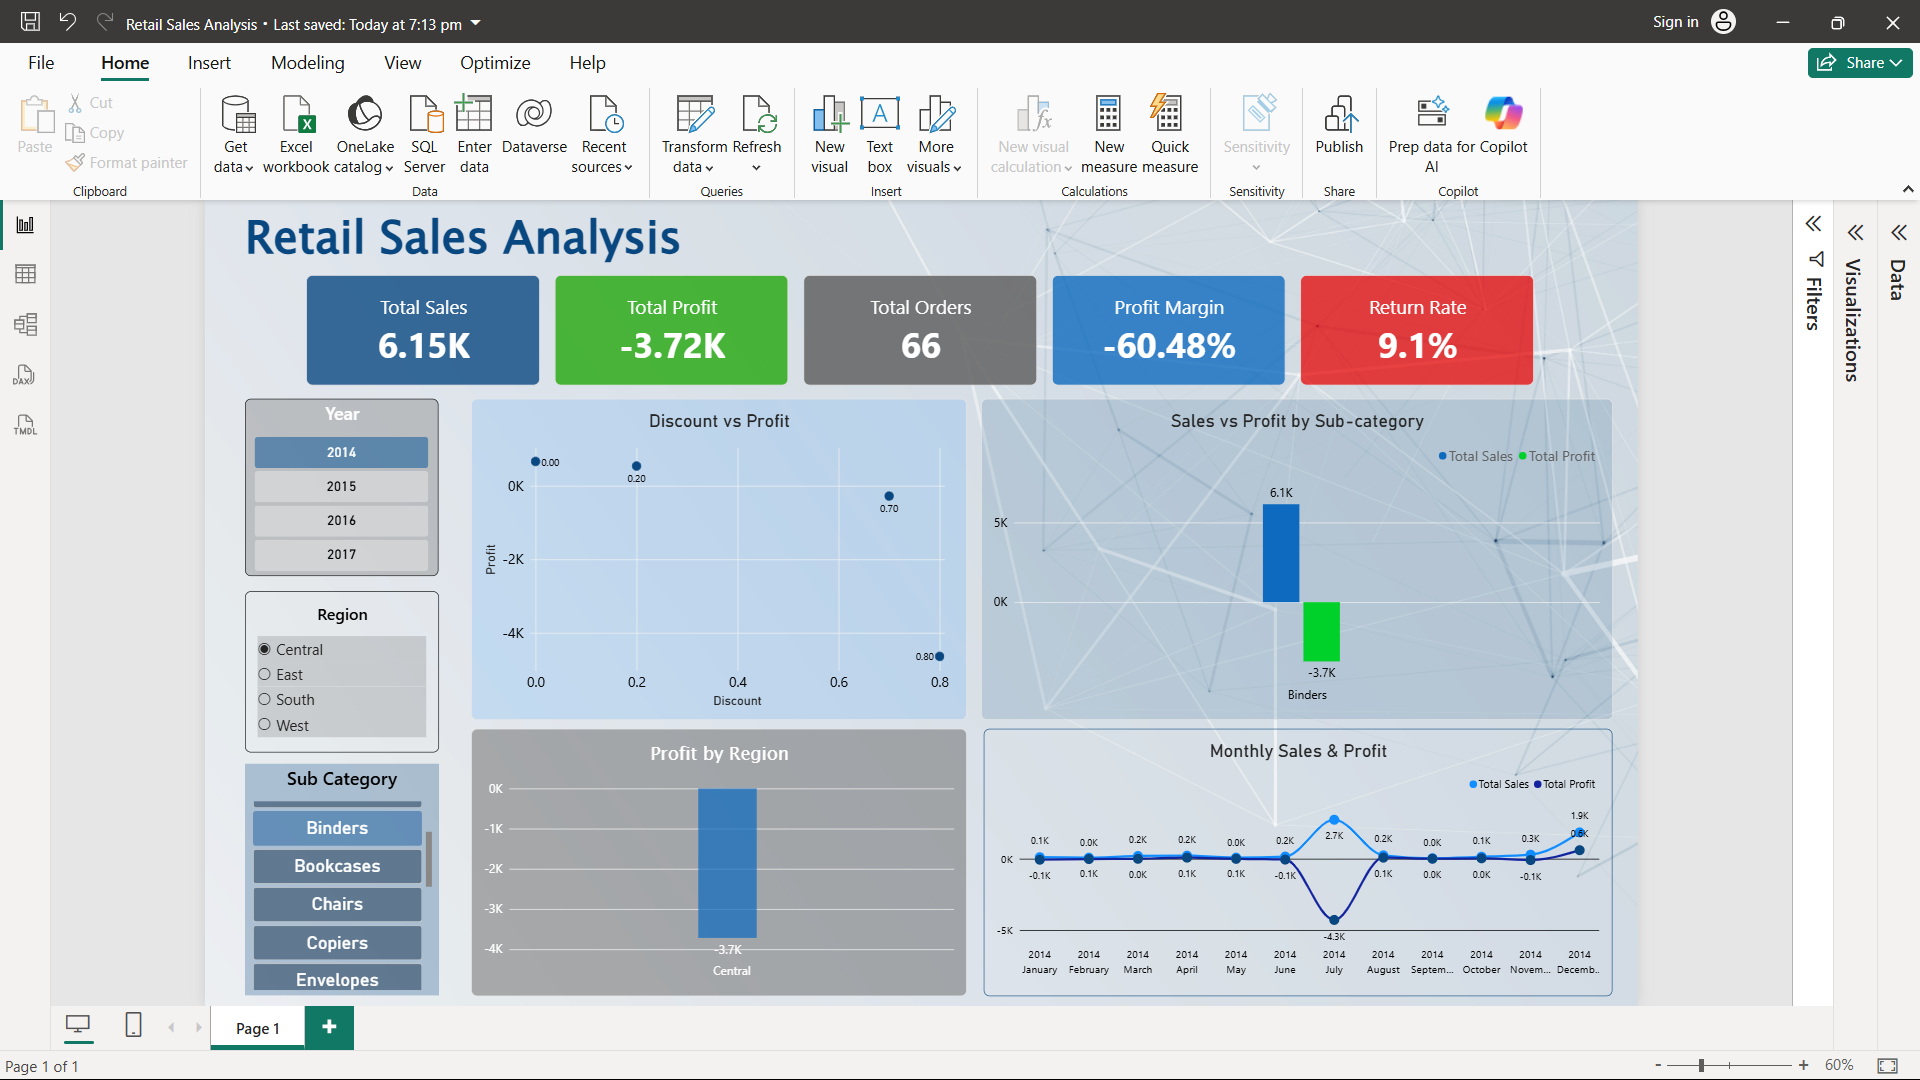

The page's visual inventory and layout, read from the dashboard file:
{"tool":"powerbi","page":{"name":"Page 1","canvas":[1920,1080],"ordinal":0},"visuals":[{"type":"textbox","title":"Retail Sales Analysis","box":[54,5.4,675,95.9],"z":0},{"type":"cardVisual","fields":{"Data":["public sales_clean.Total Sales","public sales_clean.Total Profit","public sales_clean.Total Orders","public sales_clean.Profit Margin","public sales_clean.Return Rate"]},"box":[136,100,1648,148],"z":1000},{"type":"lineChart","title":"Monthly Sales & Profit","fields":{"Y":["public sales_clean.Total Sales","public sales_clean.Total Profit"],"Category":["public sales_clean.Month Start.Variation.Date Hierarchy.Month","public sales_clean.Month Year"]},"box":[1044,708,842,358],"z":2000},{"type":"advancedSlicerVisual","fields":{"Values":["public sales_clean.order_date.Variation.Date Hierarchy.Year"]},"box":[54,266.6,259.4,237.7],"z":3000},{"type":"clusteredColumnChart","title":"Sales vs Profit by Sub-category","fields":{"Y":["public sales_clean.Total Sales","public sales_clean.Total Profit"],"Category":["public products_clean.sub_category"]},"box":[1040,266,846,430],"z":4000},{"type":"clusteredColumnChart","title":"Profit by Region","fields":{"Y":["public sales_clean.Total Profit"],"Category":["public customers_clean.region"]},"box":[356,708,664,358],"z":5000},{"type":"scatterChart","title":"Discount vs Profit","fields":{"Y":["public sales_clean.Total Profit"],"X":["public sales_clean.discount"]},"box":[356,266,664,430],"z":6000},{"type":"listSlicer","title":"Region","fields":{"Values":["public customers_clean.region"]},"box":[54,524,260,216],"z":7000},{"type":"advancedSlicerVisual","title":"Sub Category","fields":{"Values":["public products_clean.sub_category"]},"box":[54,756,260,310],"z":8000}]}

Visuals, with their boxes on the page's 1920x1080 design canvas (x1, y1, x2, y2). These are canvas units, not pixel positions in the 1920x1080 screenshot, which may show the page scaled, cropped or inside an application window:
"Retail Sales Analysis" textbox: detection(54, 5, 729, 101)
cardVisual - public sales_clean.Total Sales x public sales_clean.Total Profit: detection(136, 100, 1784, 248)
"Monthly Sales & Profit" lineChart: detection(1044, 708, 1886, 1066)
advancedSlicerVisual - public sales_clean.order_date.Variation.Date Hierarchy.Year: detection(54, 267, 313, 504)
"Sales vs Profit by Sub-category" clusteredColumnChart: detection(1040, 266, 1886, 696)
"Profit by Region" clusteredColumnChart: detection(356, 708, 1020, 1066)
"Discount vs Profit" scatterChart: detection(356, 266, 1020, 696)
"Region" listSlicer: detection(54, 524, 314, 740)
"Sub Category" advancedSlicerVisual: detection(54, 756, 314, 1066)
